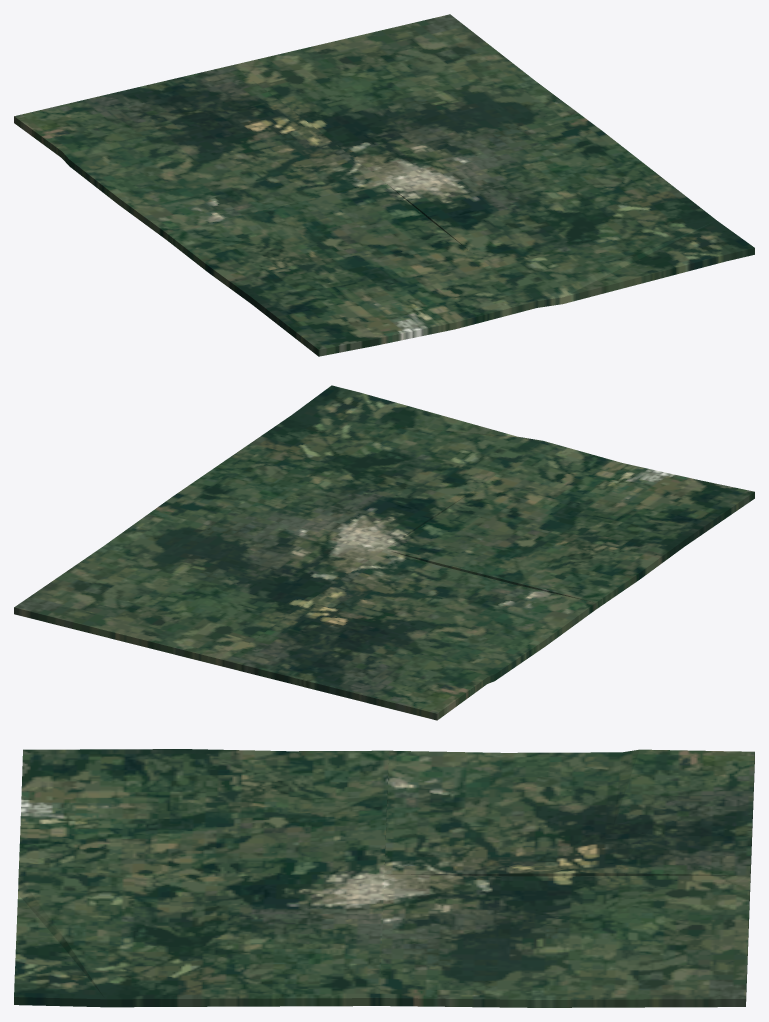
File: BuildingMesh-00497.gltf
3 views of the same model, one above another, from view 1: azimuth 30°, elevation 25°; view 2: azimuth 150°, elevation 25°; view 3: azimuth 270°, elevation 25° (orthographic). The views are drawn at different scales.
Parts seen in each view (by area): view 1: BuildingMesh-00497; view 2: BuildingMesh-00497; view 3: BuildingMesh-00497.
Part boxes in pixels (bbox=[...]): BuildingMesh-00497: bbox=[14, 14, 754, 356]; BuildingMesh-00497: bbox=[14, 385, 754, 720]; BuildingMesh-00497: bbox=[14, 749, 754, 1007].
Bounding box in the file's own units: 814 × 27.12 × 1014.
1 material, 1 textured.
